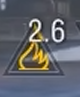1fire: (2, 45, 67, 79)
